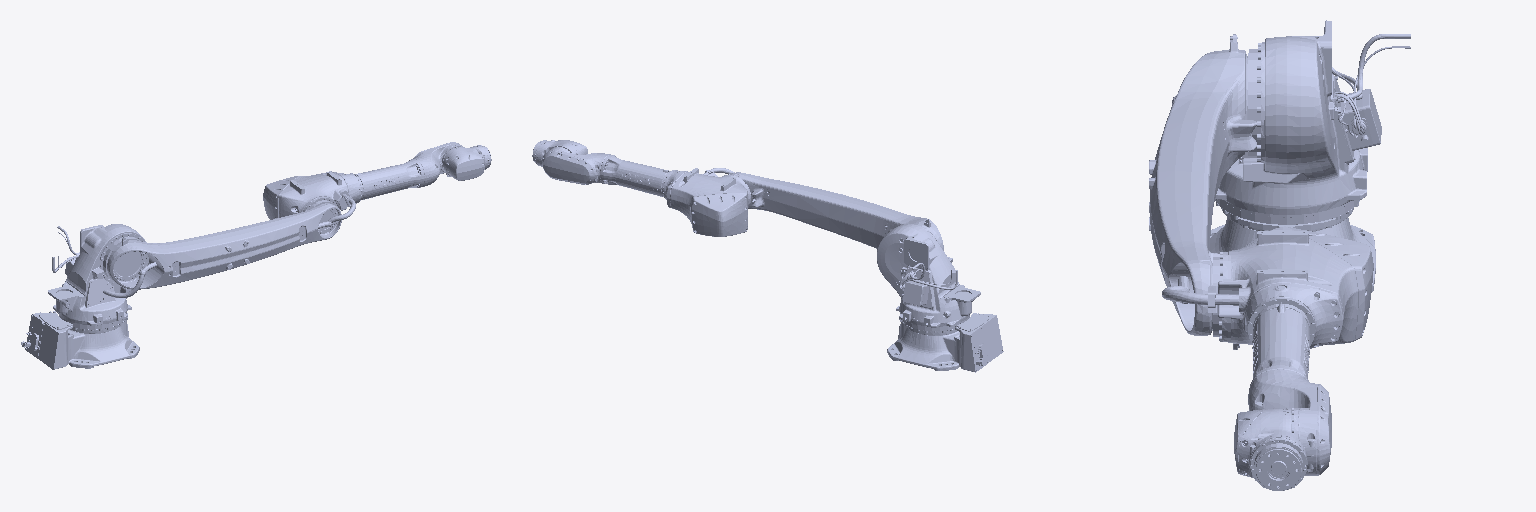
The robot description file, URDF, robot "kr_50_r2500":
<?xml version="1.0" ?>
<!-- =================================================================================== -->
<!-- |    This document was autogenerated by xacro from [local-path]/projects/personal_ws/src/kr_50_r2500/kr_50_r2500_description/urdf/kr_50_r2500_rviz.xacro | -->
<!-- |    EDITING THIS FILE BY HAND IS NOT RECOMMENDED                                 | -->
<!-- =================================================================================== -->
<robot name="kr_50_r2500">
    <!-- -350° -->
    <!--  360°/s -->
    <link name="base_link">
        <inertial>
            <origin rpy="0 0 0" xyz="-0.080585 0.00067592 0.086754" />
            <mass value="30.385" />
            <inertia ixx="0.38941" ixy="0.0047083" ixz="0.060696" iyy="0.87424" iyz="-0.00029206" izz="1.0819" />
        </inertial>
        <visual>
            <origin rpy="0 0 0" xyz="0 0 0" />
            <geometry>
                <mesh filename="package://kr_50_r2500_description/meshes/base_link.STL" />
            </geometry>
            <material name="">
                <color rgba="0.79216 0.81961 0.93333 1" />
            </material>
        </visual>
        <collision>
            <origin rpy="0 0 0" xyz="0 0 0" />
            <geometry>
                <mesh filename="package://kr_50_r2500_description/meshes/base_link.STL" />
            </geometry>
        </collision>
    </link>
    <link name="link1">
        <inertial>
            <origin rpy="0 0 0" xyz="0.0600446329714386 0.0116665626627102 0.247062352627269" />
            <mass value="56.0953515273858" />
            <inertia ixx="1.7123503270672" ixy="0.020886843872196" ixz="-0.525246219592262" iyy="2.15349859010488" iyz="-0.031415061955379" izz="1.31690706549715" />
        </inertial>
        <visual>
            <origin rpy="0 0 0" xyz="0 0 0" />
            <geometry>
                <mesh filename="package://kr_50_r2500_description/meshes/link1.STL" />
            </geometry>
            <material name="">
                <color rgba="0.792156862745098 0.819607843137255 0.933333333333333 1" />
            </material>
        </visual>
        <collision>
            <origin rpy="0 0 0" xyz="0 0 0" />
            <geometry>
                <mesh filename="package://kr_50_r2500_description/meshes/link1.STL" />
            </geometry>
        </collision>
    </link>
    <joint name="joint1" type="revolute">
        <origin rpy="1.5708 0.009141 0" xyz="0 -0.17 0" />
        <parent link="base_link" />
        <child link="link1" />
        <axis xyz="0 0 -1" />
        <limit effort="10000" lower="-3.22886" upper="3.22886" velocity="3.05433" />
    </joint>
    <link name="link2">
        <inertial>
            <origin rpy="0 0 0" xyz="0.0040251350126134 -0.177497207044946 0.578963319749875" />
            <mass value="35.5942562362571" />
            <inertia ixx="4.47662495992728" ixy="-0.00203441583192867" ixz="0.0769841500591921" iyy="4.49958249588231" iyz="0.214283202316168" izz="0.238618624180958" />
        </inertial>
        <visual>
            <origin rpy="0 0 0" xyz="0 0 0" />
            <geometry>
                <mesh filename="package://kr_50_r2500_description/meshes/link2.STL" />
            </geometry>
            <material name="">
                <color rgba="0.792156862745098 0.819607843137255 0.933333333333333 1" />
            </material>
        </visual>
        <collision>
            <origin rpy="0 0 0" xyz="0 0 0" />
            <geometry>
                <mesh filename="package://kr_50_r2500_description/meshes/link2.STL" />
            </geometry>
        </collision>
    </link>
    <joint name="joint2" type="revolute">
        <origin rpy="0 1.557055  0" xyz="0.175 -0.074807 0.405" />
        <parent link="link1" />
        <child link="link2" />
        <axis xyz="0 1 0" />
        <limit effort="10000" lower="-3.05433" upper="1.0472" velocity="2.75762" />
    </joint>
    <link name="link3">
        <inertial>
            <origin rpy="0 0 0" xyz="0.0305175734183824 0.097105360534718 0.0162382856824868" />
            <mass value="36.6784876951283" />
            <inertia ixx="0.563908772434098" ixy="0.0648382829251099" ixz="-0.0822356915818992" iyy="0.7868662787778" iyz="0.00379928707270628" izz="1.01511384262152" />
        </inertial>
        <visual>
            <origin rpy="0 0 0" xyz="0 0 0" />
            <geometry>
                <mesh filename="package://kr_50_r2500_description/meshes/link3.STL" />
            </geometry>
            <material name="">
                <color rgba="0.792156862745098 0.819607843137255 0.933333333333333 1" />
            </material>
        </visual>
        <collision>
            <origin rpy="0 0 0" xyz="0 0 0" />
            <geometry>
                <mesh filename="package://kr_50_r2500_description/meshes/link3.STL" />
            </geometry>
        </collision>
    </link>
    <joint name="joint3" type="revolute">
        <origin rpy="0 -1.557055 0" xyz="0 0 1.29" />
        <parent link="link2" />
        <child link="link3" />
        <axis xyz="0 1 0" />
        <limit effort="10000" lower="-2.0944" upper="2.96706" velocity="3.05433" />
    </joint>
    <link name="link4">
        <inertial>
            <origin rpy="0 0 0" xyz="0.400085577392824 0.0280533450779974 -6.01461215805621E-05" />
            <mass value="15.1542881051753" />
            <inertia ixx="0.0701060691297577" ixy="-0.0990093812478981" ixz="0.00018489912158269" iyy="0.729933929975417" iyz="-2.55452640777306E-05" izz="0.748398699396793" />
        </inertial>
        <visual>
            <origin rpy="0 0 0" xyz="0 0 0" />
            <geometry>
                <mesh filename="package://kr_50_r2500_description/meshes/link4.STL" />
            </geometry>
            <material name="">
                <color rgba="0.792156862745098 0.819607843137255 0.933333333333333 1" />
            </material>
        </visual>
        <collision>
            <origin rpy="0 0 0" xyz="0 0 0" />
            <geometry>
                <mesh filename="package://kr_50_r2500_description/meshes/link4.STL" />
            </geometry>
        </collision>
    </link>
    <joint name="joint4" type="revolute">
        <origin rpy="0 0 0" xyz="0.32687 0.074807 0.05" />
        <parent link="link3" />
        <child link="link4" />
        <axis xyz="1 0 0" />
        <limit effort="10000" lower="-3.14159" upper="3.14159" velocity="4.36332" />
    </joint>
    <link name="link5">
        <inertial>
            <origin rpy="0 0 0" xyz="0.0348166227286741 -0.0333672873060013 -7.86869120463773E-05" />
            <mass value="5.17490767884354" />
            <inertia ixx="0.0198943557123769" ixy="-0.00379528838423929" ixz="-3.17734786601442E-05" iyy="0.0325404927644558" iyz="2.0392665049925E-05" izz="0.0334468145607699" />
        </inertial>
        <visual>
            <origin rpy="0 0 0" xyz="0 0 0" />
            <geometry>
                <mesh filename="package://kr_50_r2500_description/meshes/link5.STL" />
            </geometry>
            <material name="">
                <color rgba="0.792156862745098 0.819607843137255 0.933333333333333 1" />
            </material>
        </visual>
        <collision>
            <origin rpy="0 0 0" xyz="0 0 0" />
            <geometry>
                <mesh filename="package://kr_50_r2500_description/meshes/link5.STL" />
            </geometry>
        </collision>
    </link>
    <joint name="joint5" type="revolute">
        <origin rpy="0 -0.0 0" xyz="0.708131634616243 0 0" />
        <parent link="link4" />
        <child link="link5" />
        <axis xyz="0 1 0" />
        <limit effort="10000" lower="-2.18166" upper="2.18166" velocity="4.36332" />
    </joint>
    <link name="link6">
        <inertial>
            <origin rpy="0 0 0" xyz="0.0697663509698883 -2.97159715269453E-06 -4.15148219581329E-05" />
            <mass value="0.362972835401582" />
            <inertia ixx="0.000809216081686161" ixy="9.97029573660496E-10" ixz="2.41841688721677E-07" iyy="0.000440777200154296" iyz="1.15745872636665E-07" izz="0.000441694717362902" />
        </inertial>
        <visual>
            <origin rpy="0 0 0" xyz="0 0 0" />
            <geometry>
                <mesh filename="package://kr_50_r2500_description/meshes/link6.STL" />
            </geometry>
            <material name="">
                <color rgba="0.792156862745098 0.819607843137255 0.933333333333333 1" />
            </material>
        </visual>
        <collision>
            <origin rpy="0 0 0" xyz="0 0 0" />
            <geometry>
                <mesh filename="package://kr_50_r2500_description/meshes/link6.STL" />
            </geometry>
        </collision>
    </link>
    <joint name="joint6" type="revolute">
        <origin rpy="0 0 0" xyz="0.0966663727881543 0 0" />
        <parent link="link5" />
        <child link="link6" />
        <axis xyz="1 0 0" />
        <limit effort="10000" lower="-6.10865" upper="6.10865" velocity="6.28319" />
    </joint>
    <joint name="link6_to_flange" type="fixed">
        <origin rpy="0 1.57079632679 0" xyz="0.07 0 0" />
        <parent link="link6" />
        <child link="flange" />
    </joint>
    <link name="flange">
        <inertial>
            <origin rpy="0 0 0" xyz="0 0 0" />
            <mass value="0.01" />
            <inertia ixx="0.00001" ixy="0.00000" ixz="0.00000" iyy="0.00001" iyz="0.00000" izz="0.00000" />
        </inertial>
    </link>
    <transmission name="tran1">
        <type>transmission_interface/SimpleTransmission</type>
        <joint name="joint1">
            <hardwareInterface>hardware_interface/EffortJointInterface</hardwareInterface>
        </joint>
        <actuator name="motor1">
            <mechanicalReduction>1</mechanicalReduction>
            <hardwareInterface>hardware_interface/EffortJointInterface</hardwareInterface>
        </actuator>
    </transmission>
    <transmission name="tran2">
        <type>transmission_interface/SimpleTransmission</type>
        <joint name="joint2">
            <hardwareInterface>hardware_interface/EffortJointInterface</hardwareInterface>
        </joint>
        <actuator name="motor2">
            <mechanicalReduction>1</mechanicalReduction>
            <hardwareInterface>hardware_interface/EffortJointInterface</hardwareInterface>
        </actuator>
    </transmission>
    <transmission name="tran3">
        <type>transmission_interface/SimpleTransmission</type>
        <joint name="joint3">
            <hardwareInterface>hardware_interface/EffortJointInterface</hardwareInterface>
        </joint>
        <actuator name="motor3">
            <mechanicalReduction>1</mechanicalReduction>
            <hardwareInterface>hardware_interface/EffortJointInterface</hardwareInterface>
        </actuator>
    </transmission>
    <transmission name="tran4">
        <type>transmission_interface/SimpleTransmission</type>
        <joint name="joint4">
            <hardwareInterface>hardware_interface/EffortJointInterface</hardwareInterface>
        </joint>
        <actuator name="motor4">
            <mechanicalReduction>1</mechanicalReduction>
            <hardwareInterface>hardware_interface/EffortJointInterface</hardwareInterface>
        </actuator>
    </transmission>
    <transmission name="tran5">
        <type>transmission_interface/SimpleTransmission</type>
        <joint name="joint5">
            <hardwareInterface>hardware_interface/EffortJointInterface</hardwareInterface>
        </joint>
        <actuator name="motor5">
            <mechanicalReduction>1</mechanicalReduction>
            <hardwareInterface>hardware_interface/EffortJointInterface</hardwareInterface>
        </actuator>
    </transmission>
    <transmission name="tran6">
        <type>transmission_interface/SimpleTransmission</type>
        <joint name="joint6">
            <hardwareInterface>hardware_interface/EffortJointInterface</hardwareInterface>
        </joint>
        <actuator name="motor6">
            <mechanicalReduction>1</mechanicalReduction>
            <hardwareInterface>hardware_interface/EffortJointInterface</hardwareInterface>
        </actuator>
    </transmission>
    <link name="world" />
    <joint name="world_to_base_link" type="fixed">
        <origin rpy="-1.5707963267948966 0 0" xyz="0 0 0" />
        <parent link="world" />
        <child link="base_link" />
    </joint>
    <gazebo>
        <plugin name="gazebo_ros_control">
            <robotNamespace>/</robotNamespace>
        </plugin>
    </gazebo>
</robot>

--- Render facts (derived) ---
The picture shows the robot from 3 angles, left to right: view 1: azimuth 30°, elevation 25°; view 2: azimuth 150°, elevation 25°; view 3: azimuth 270°, elevation 25°; orthographic projection.
Model kr_50_r2500 with 9 links and 8 joints (6 revolute, 2 fixed), rooted at world, posed all joints at 0.
Links seen in each view (by area): view 1: link2, link1, base_link, link3, link4, link5; view 2: link1, link2, link3, base_link, link4, link5; view 3: link1, link2, link3, link4, link5, base_link, link6.
Link boxes in pixels (x1,y1,x2,y2): link2: (107, 203, 341, 289); link1: (48, 224, 145, 333); base_link: (21, 311, 139, 369); link3: (263, 171, 362, 226); link4: (354, 142, 462, 199); link5: (443, 145, 489, 180); link1: (877, 224, 980, 335); link2: (730, 172, 943, 250); link3: (662, 168, 750, 236); base_link: (887, 313, 1003, 372); link4: (542, 146, 669, 196); link5: (534, 140, 587, 166); link1: (1171, 20, 1410, 231); link2: (1149, 34, 1256, 335); link3: (1162, 226, 1373, 349); link4: (1248, 302, 1331, 475); link5: (1234, 408, 1307, 490); base_link: (1210, 217, 1375, 291); link6: (1255, 447, 1301, 490).
Size in the robot's own frame: 3.09 by 0.7137 by 0.7574 metres.
Meshes: 7 distinct files referenced, 7 mesh visuals loaded (7 binary STL).